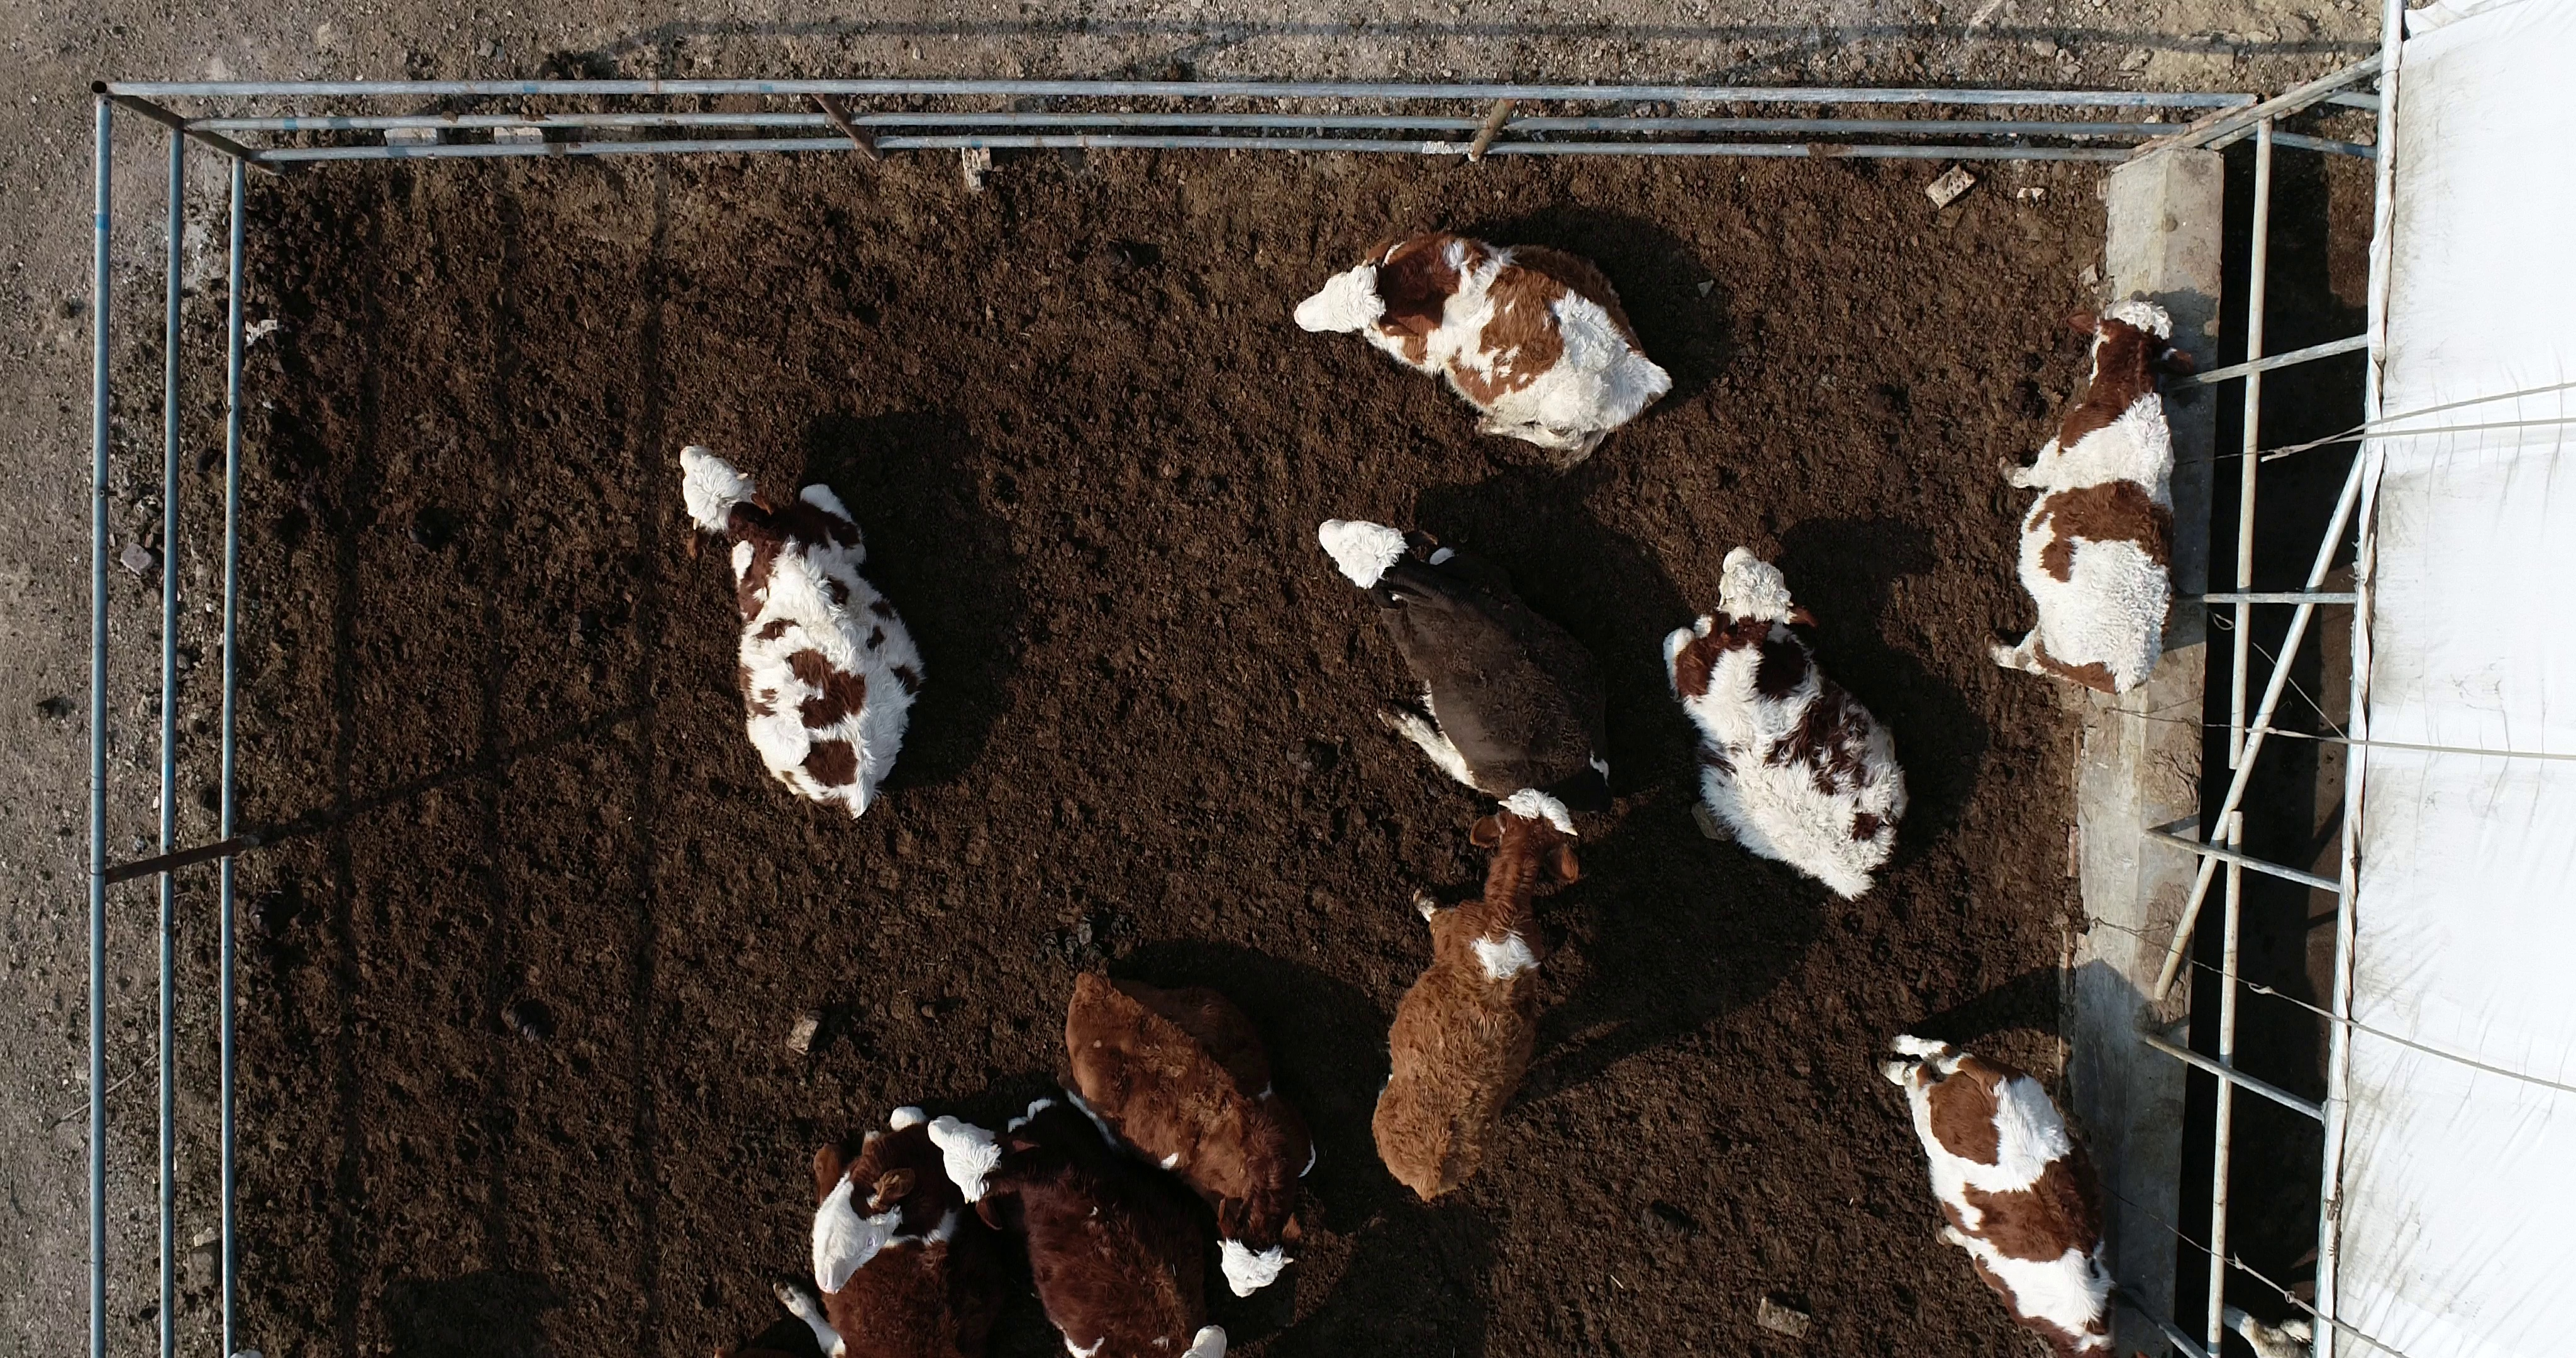cattle: (1360, 782, 1586, 1200)
